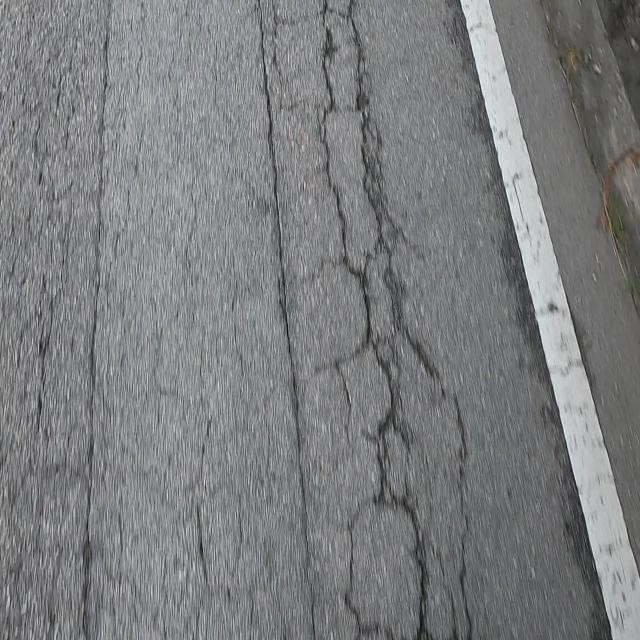Retak-Buaya: (255, 0, 472, 640), (0, 0, 107, 640)
